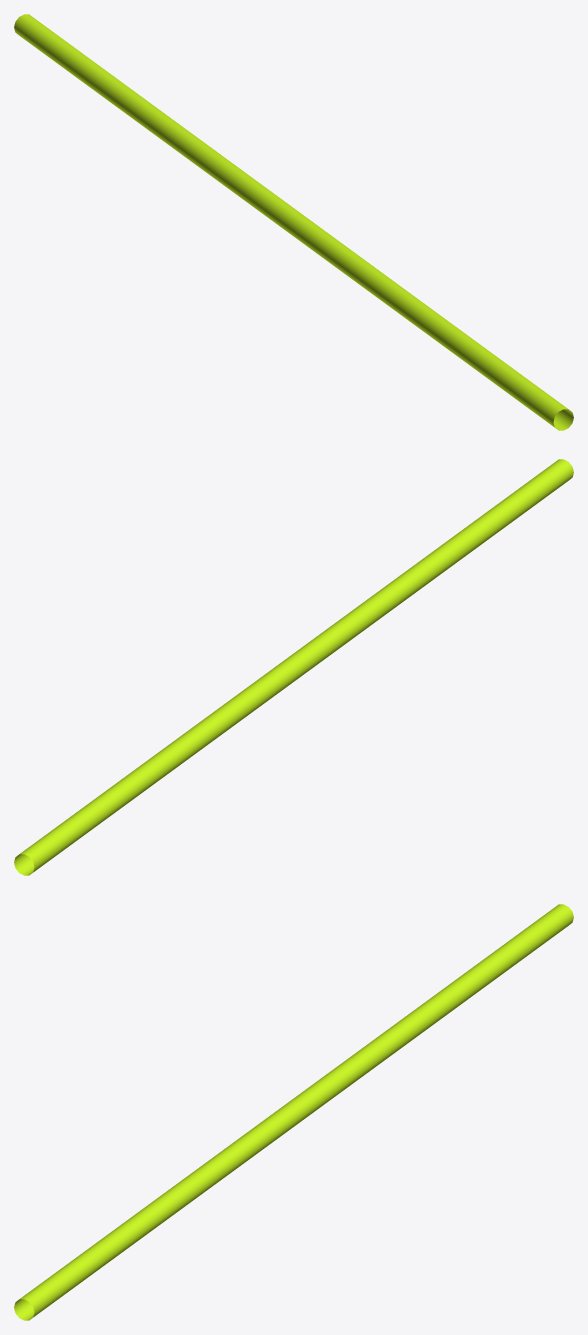
The model's file is crossbar.glb.
The picture shows the model from 3 angles, top to bottom: view 1: azimuth 30°, elevation 25°; view 2: azimuth 150°, elevation 25°; view 3: azimuth 330°, elevation 25°; orthographic projection.
Parts seen in each view (by area): view 1: Crossbar tube; view 2: Crossbar tube; view 3: Crossbar tube.
Part boxes in pixels (box(x1,y1,x2,y2)): Crossbar tube: box(14, 14, 573, 430); Crossbar tube: box(14, 459, 573, 875); Crossbar tube: box(14, 904, 573, 1320).
Bounding box in the file's own units: 0.09 × 0.09 × 4.1.
